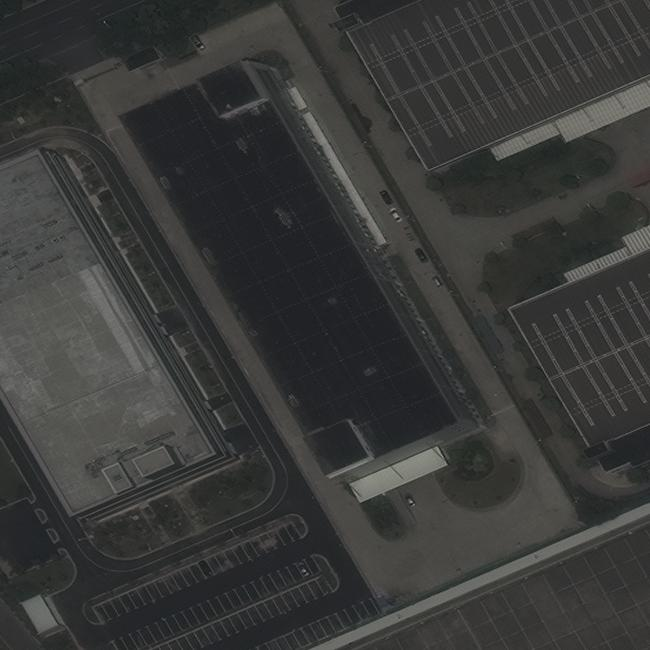parking lot: (204, 557, 373, 649), (192, 523, 301, 584), (92, 568, 190, 626), (133, 599, 202, 650)
